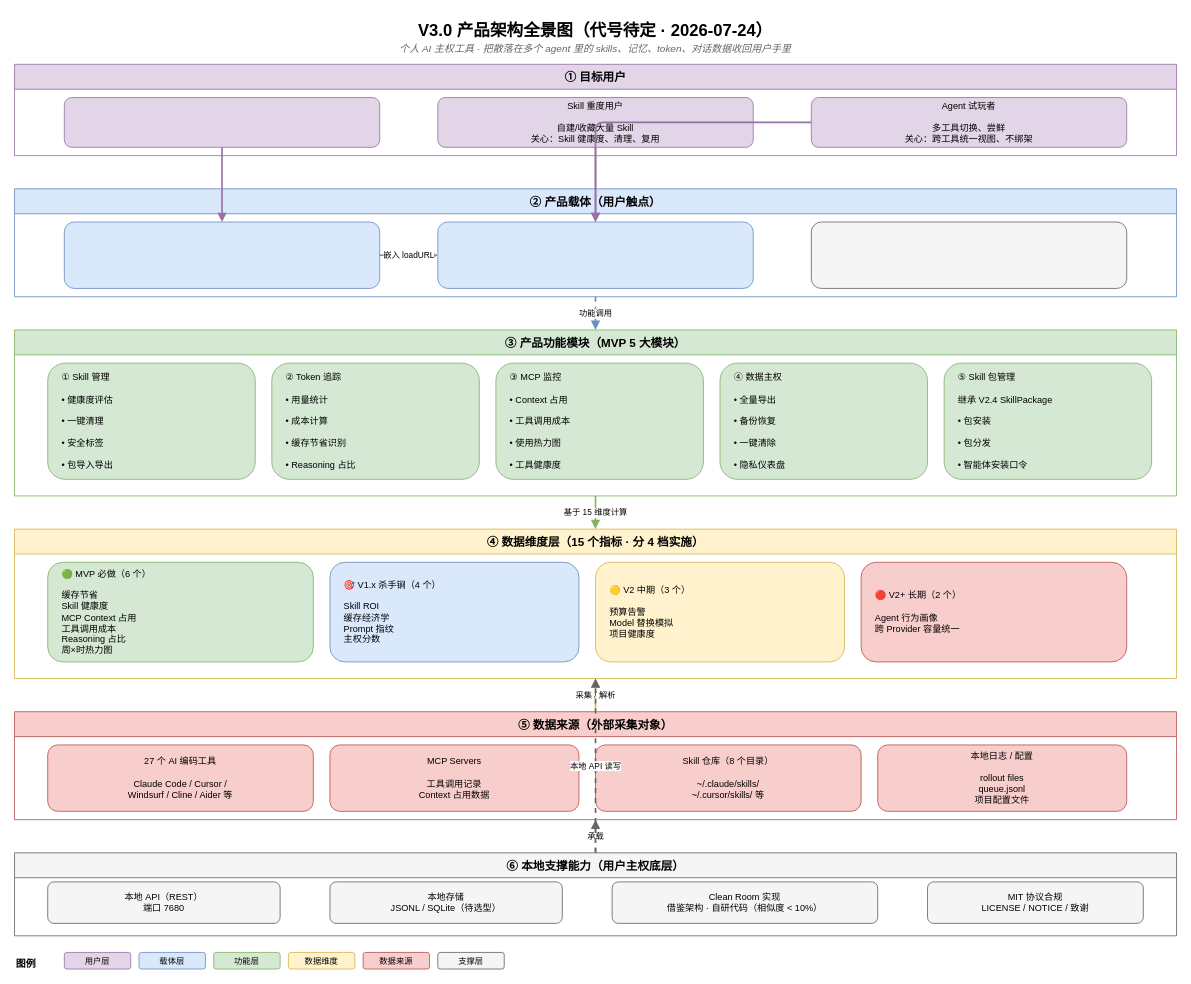
Image size: 1191x984. Some labels were removed from this diagram. Each missing label, with the centre of its shape:
"AI 开发者 Claude Code / Cursor / Windsurf 重度用户 关心：token 成本、Skill 效率" goes at (221,122).
"Dashboard SPA（主交互界面） React 自研前端 5 大功能模块统一入口 loadURL: http://localhost:7680" goes at (595,254).
"Electron 桌面壳 macOS + Windows 双平台 托盘图标 / 主窗口 / 开机自启 启动本地 API 子进程" goes at (221,254).
"（V2 规划）Chrome 插件 浏览器内查看 / 注入 MVP 不做" goes at (968,254).
